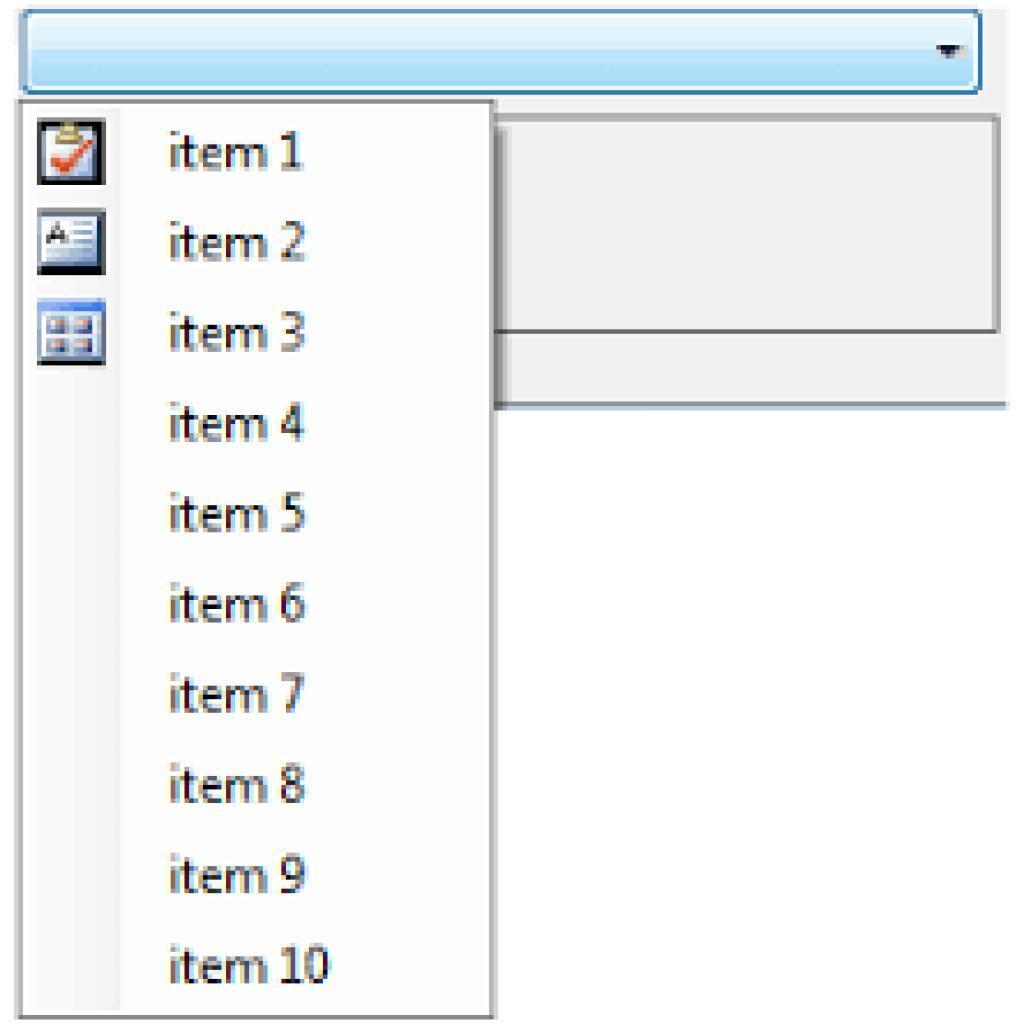dropdown: (22, 12, 982, 93)
